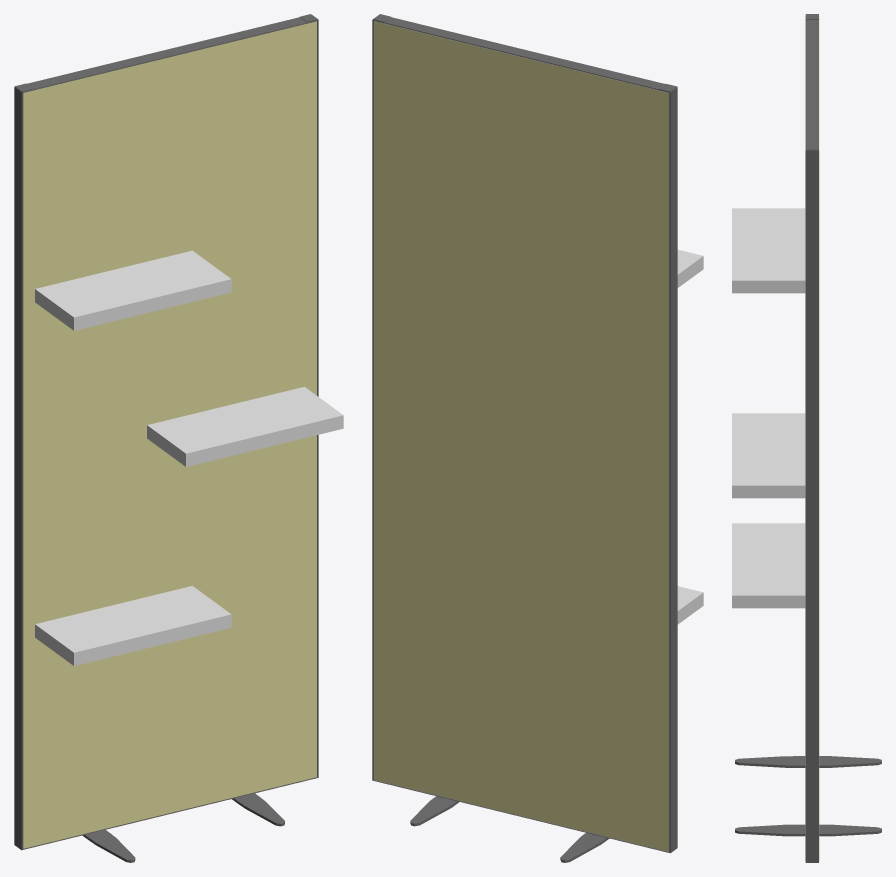
File: Shelves Module M.glb
3 renders of one model, left to right at view 1: azimuth 30°, elevation 25°; view 2: azimuth 150°, elevation 25°; view 3: azimuth 270°, elevation 25°, orthographic. The views are drawn at different scales.
Visible parts, largest first — view 1: Standard 38.012, Cube.001, toggle_feet_center.005; view 2: toggle_back_panel.007, Standard 38.012, Cube.001, toggle_feet_center.005; view 3: Cube.001, Standard 38.012, toggle_feet_center.005, toggle_back_panel.007, toggle_feet_edge.003.
Part boxes in pixels (x1=…): Standard 38.012: x1=14, y1=14, x2=318, y2=850; Cube.001: x1=35, y1=250, x2=343, y2=665; toggle_feet_center.005: x1=82, y1=793, x2=280, y2=857; toggle_back_panel.007: x1=374, y1=21, x2=668, y2=851; Standard 38.012: x1=372, y1=14, x2=677, y2=853; Cube.001: x1=677, y1=249, x2=703, y2=624; toggle_feet_center.005: x1=410, y1=796, x2=609, y2=862; Cube.001: x1=732, y1=208, x2=805, y2=608; Standard 38.012: x1=805, y1=14, x2=818, y2=862; toggle_feet_center.005: x1=742, y1=756, x2=881, y2=836; toggle_back_panel.007: x1=819, y1=16, x2=819, y2=860; toggle_feet_edge.003: x1=735, y1=756, x2=793, y2=836.
Bounding box in the file's own units: 0.969 × 2.37 × 0.4503.
